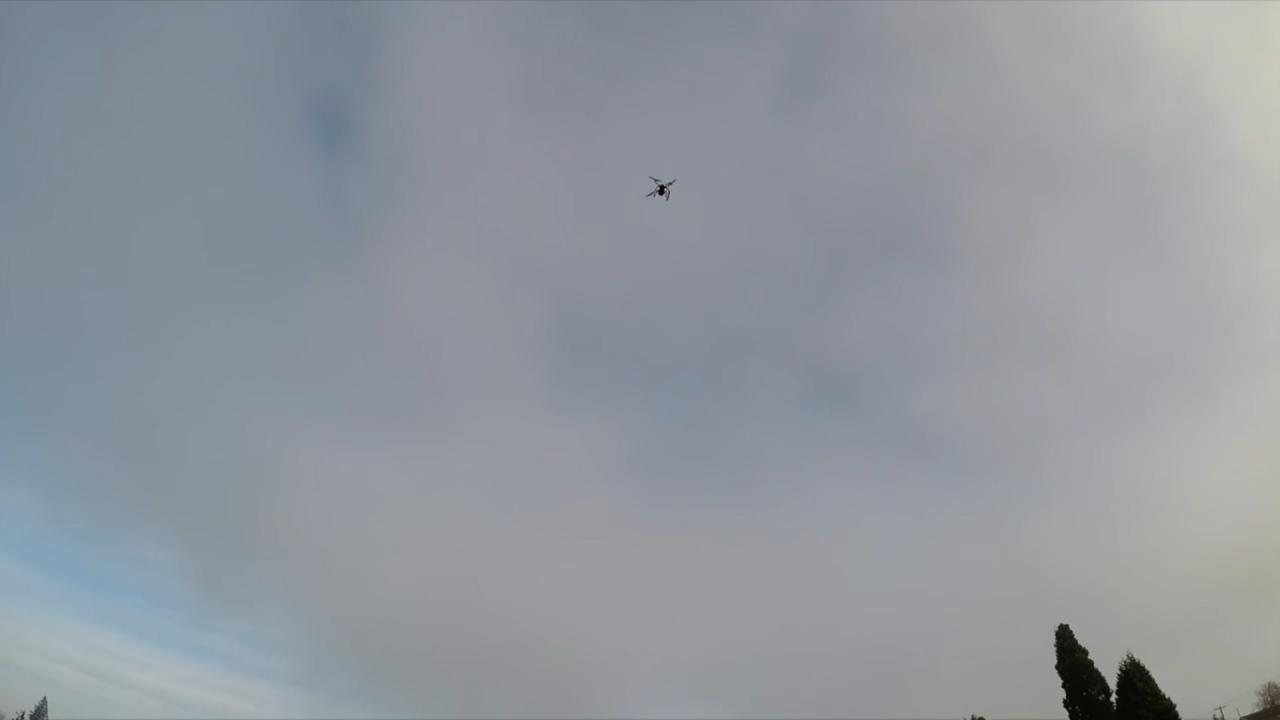Drone: (637, 171, 686, 207)
